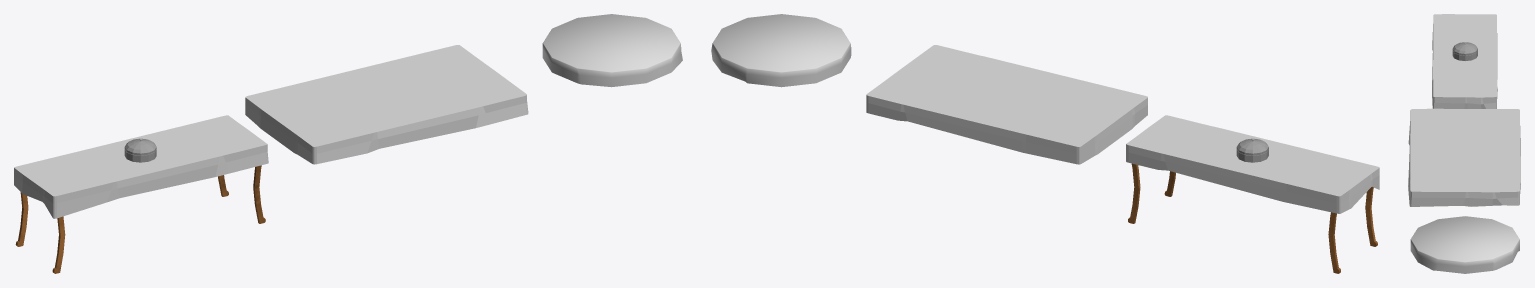
File: Dining Assets.fbx
The picture shows the model from 3 angles, left to right: view 1: azimuth 30°, elevation 25°; view 2: azimuth 150°, elevation 25°; view 3: azimuth 270°, elevation 25°; orthographic projection. The views are drawn at different scales.
Visible parts, largest first — view 1: Table Cloth, Table Cloth Small, Round Table Cloth, Table.002, Cylinder.001; view 2: Table Cloth, Table Cloth Small, Round Table Cloth, Table.002, Cylinder.001; view 3: Table Cloth, Table Cloth Small, Round Table Cloth, Cylinder.001.
Part boxes in pixels (box(x1,y1,x2,y2)): Table Cloth: box(245, 45, 528, 164); Table Cloth Small: box(14, 115, 268, 218); Round Table Cloth: box(542, 14, 682, 87); Table.002: box(15, 165, 265, 273); Cylinder.001: box(124, 138, 156, 162); Table Cloth: box(866, 45, 1147, 164); Table Cloth Small: box(1126, 115, 1379, 213); Round Table Cloth: box(711, 14, 851, 87); Table.002: box(1128, 163, 1377, 273); Cylinder.001: box(1236, 138, 1268, 162); Table Cloth: box(1408, 108, 1520, 206); Table Cloth Small: box(1432, 14, 1497, 108); Round Table Cloth: box(1410, 216, 1519, 273); Cylinder.001: box(1452, 42, 1477, 60).
Size of the model in its own units: 8.58 by 1.22 by 1.66.
